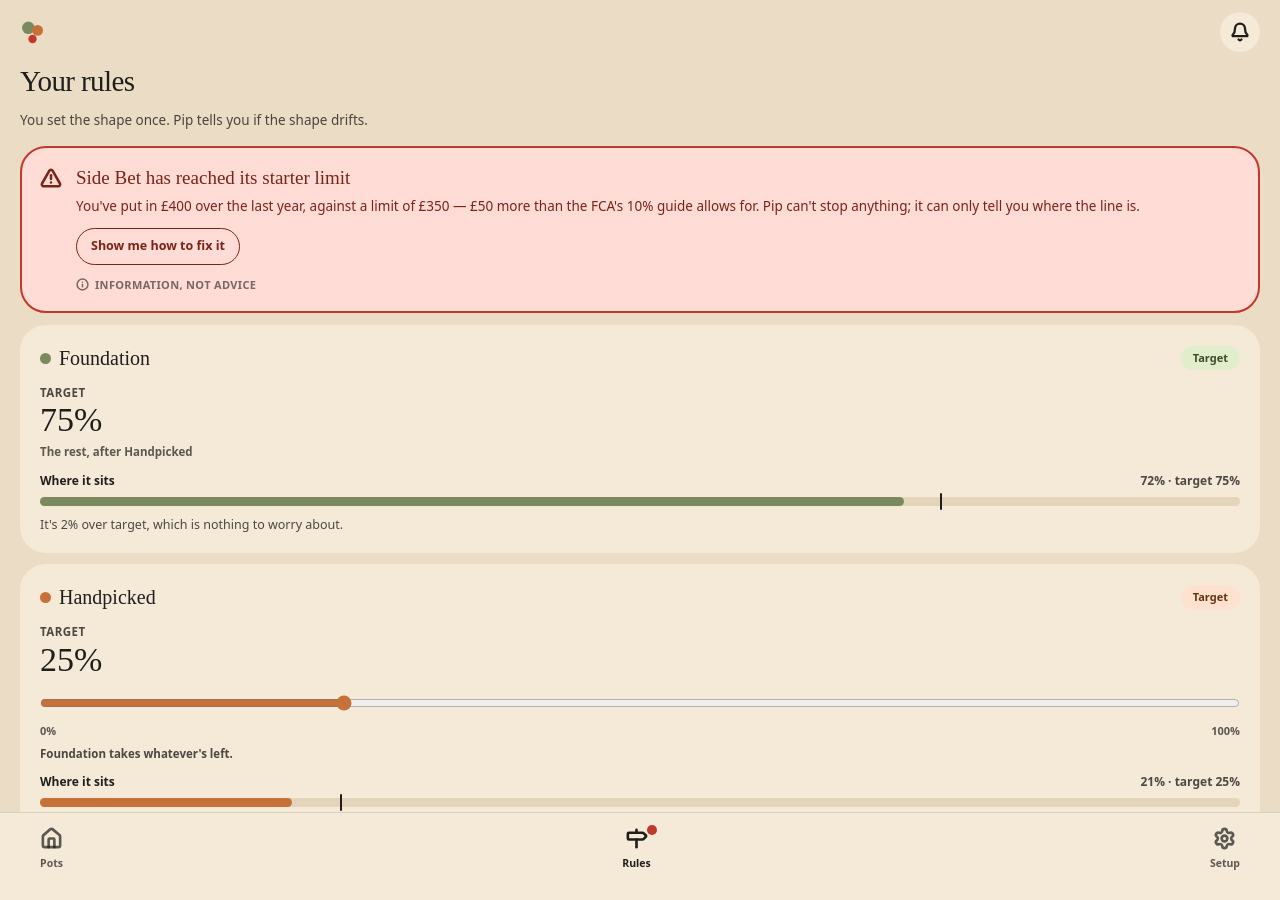
Test: Side Bet past its limit › shows the one amount that would bring it back, as information
Click the button "Show me how to fix it".
click(158, 246)  # box [76, 228, 240, 265]
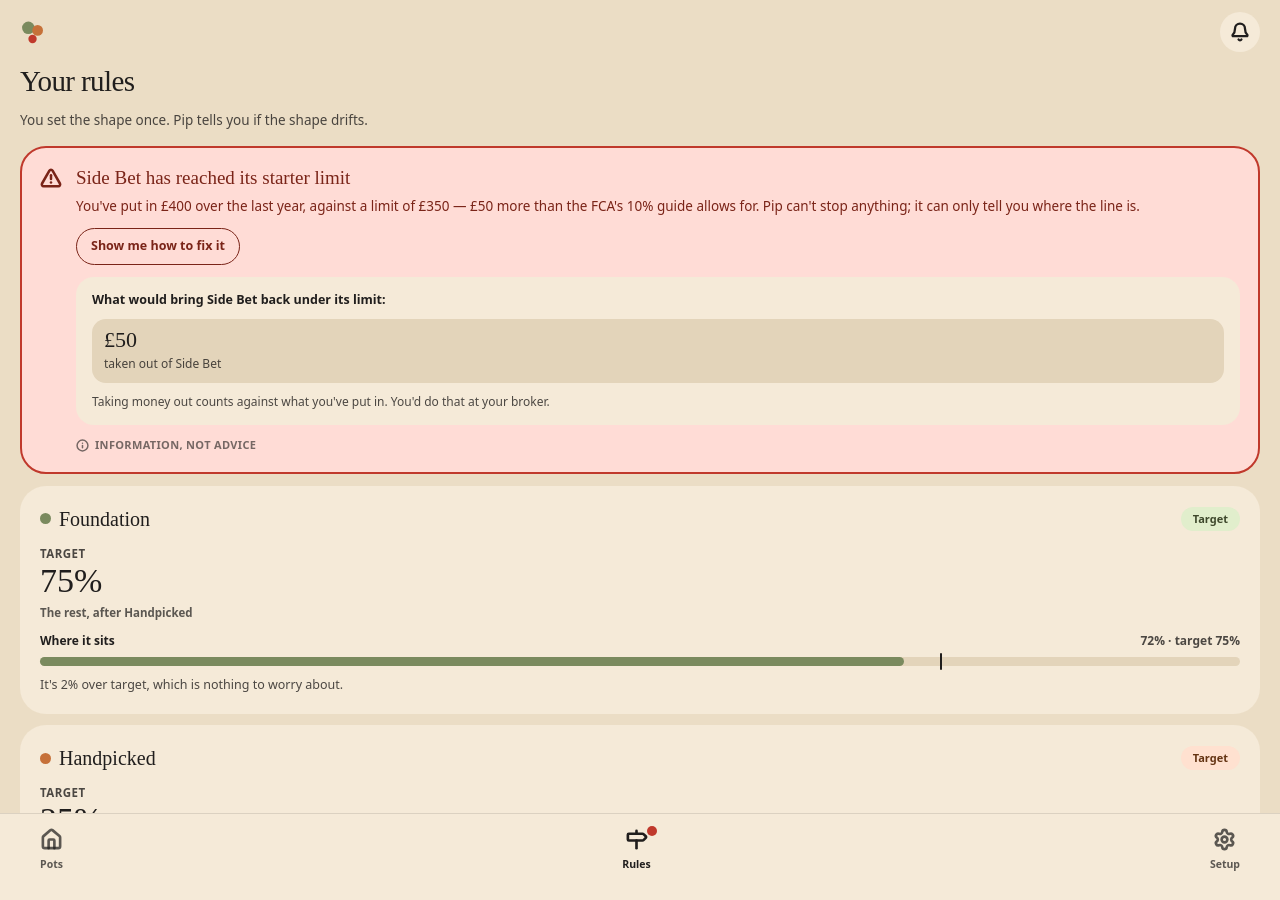
expect the text "£50" is shown: met, box [104, 327, 137, 352]
expect the text "taken out of Side Bet" is shown: met, box [104, 355, 221, 372]
expect the element named "What would bring it back under its limit" shows "You'd do that at your broker.": met, box [92, 393, 550, 410]
